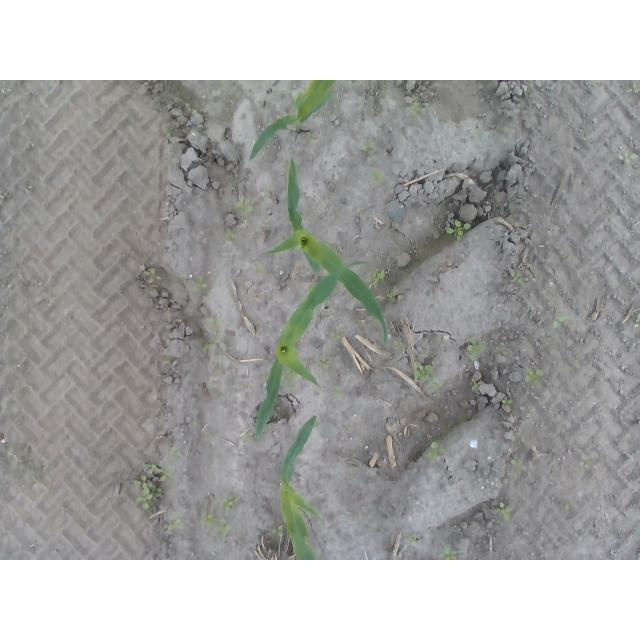Maize: (258, 156, 391, 346), (253, 260, 368, 443), (251, 80, 338, 161), (277, 414, 325, 560)
Weeds: (131, 460, 173, 512), (413, 362, 443, 391), (447, 217, 472, 241), (465, 336, 488, 361), (428, 439, 449, 462), (234, 198, 254, 217), (143, 267, 161, 285), (526, 369, 545, 386), (617, 151, 639, 165), (510, 268, 529, 284), (392, 338, 409, 354), (222, 227, 240, 242), (552, 313, 568, 329), (168, 517, 185, 532), (438, 548, 459, 560), (224, 495, 241, 509), (494, 501, 511, 515), (371, 168, 385, 184), (201, 511, 216, 525), (207, 319, 225, 330), (217, 521, 231, 535), (625, 80, 639, 94), (272, 525, 285, 538), (406, 534, 419, 546), (361, 143, 376, 153), (168, 446, 183, 456), (410, 103, 422, 114), (164, 127, 176, 138), (372, 271, 385, 281), (497, 398, 514, 405), (203, 343, 216, 352), (633, 312, 640, 328), (196, 282, 209, 290), (242, 431, 254, 439), (469, 382, 479, 391), (579, 460, 589, 469), (511, 457, 522, 465), (320, 360, 329, 368), (335, 336, 341, 341)
